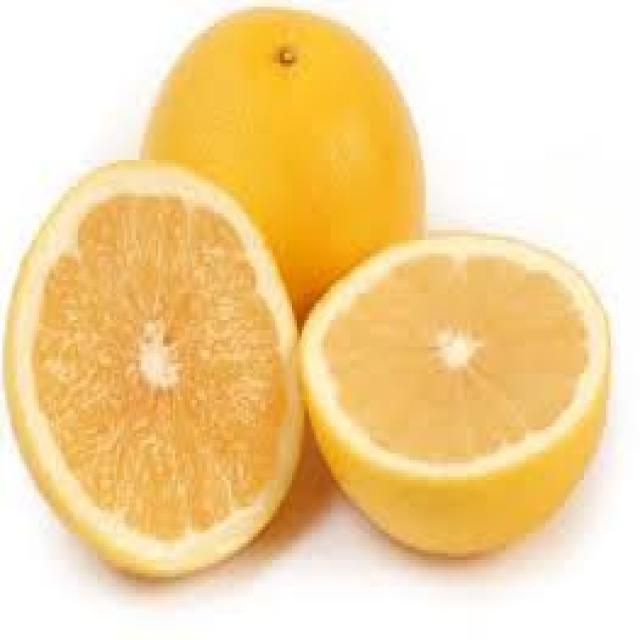greapefurit: (0, 3, 618, 590)
